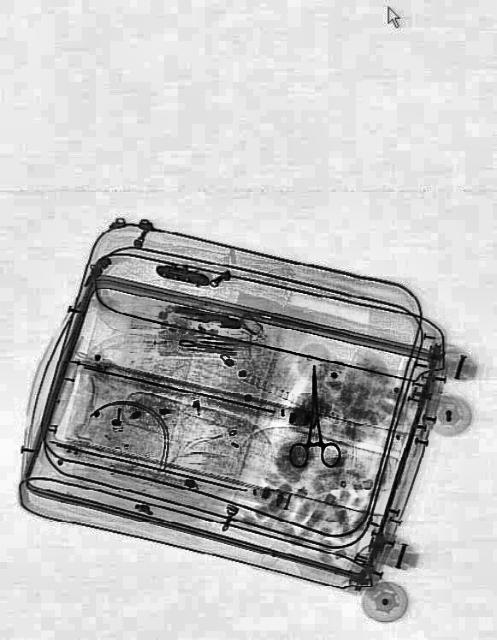Scissors: (288, 364, 340, 468)
